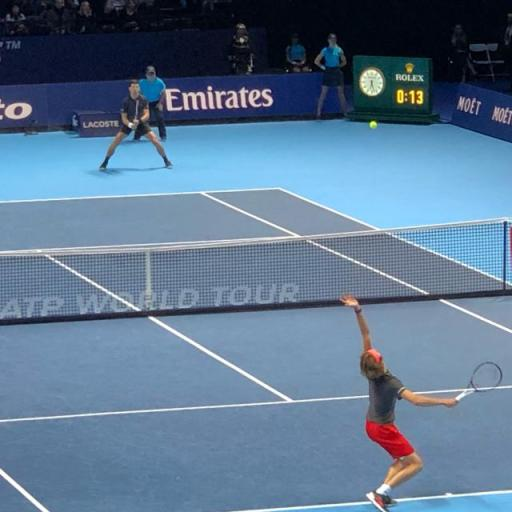Emirates: (159, 84, 274, 112)
